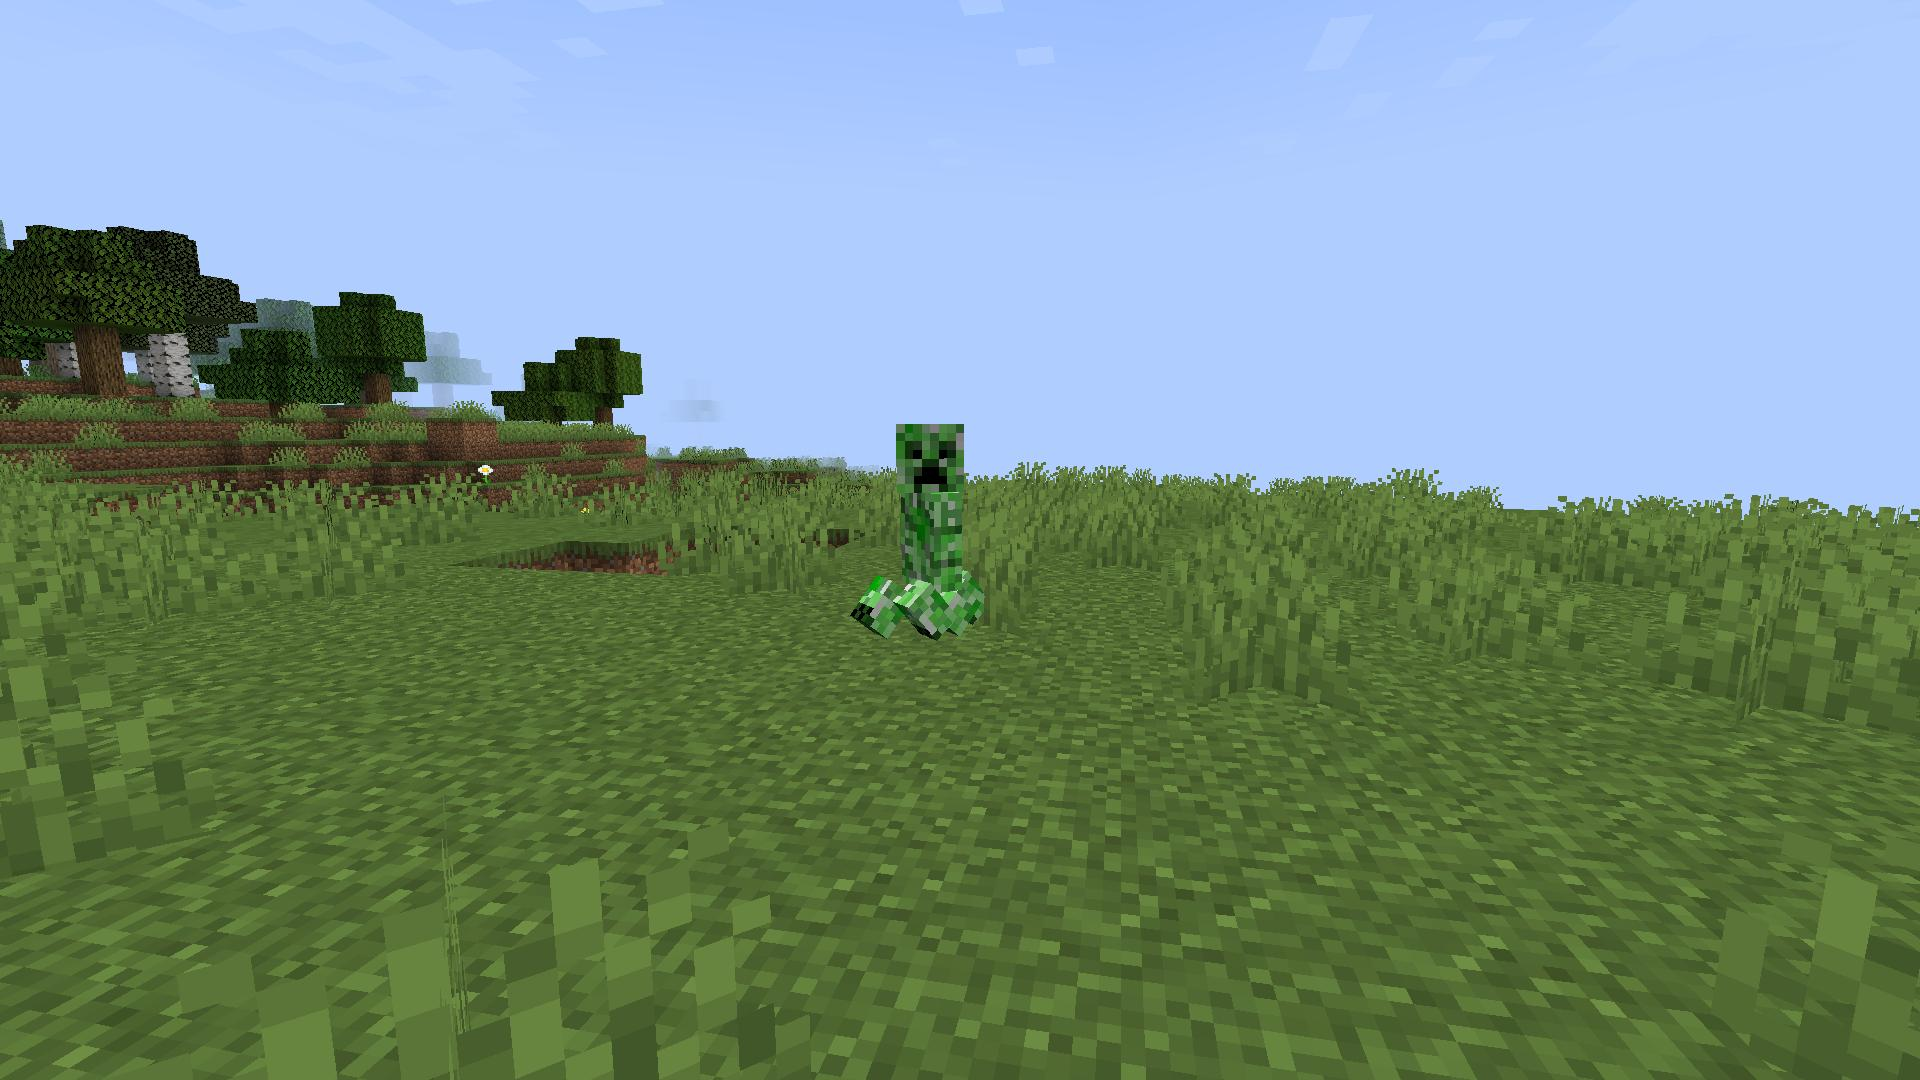creeper: (840, 407, 984, 658)
